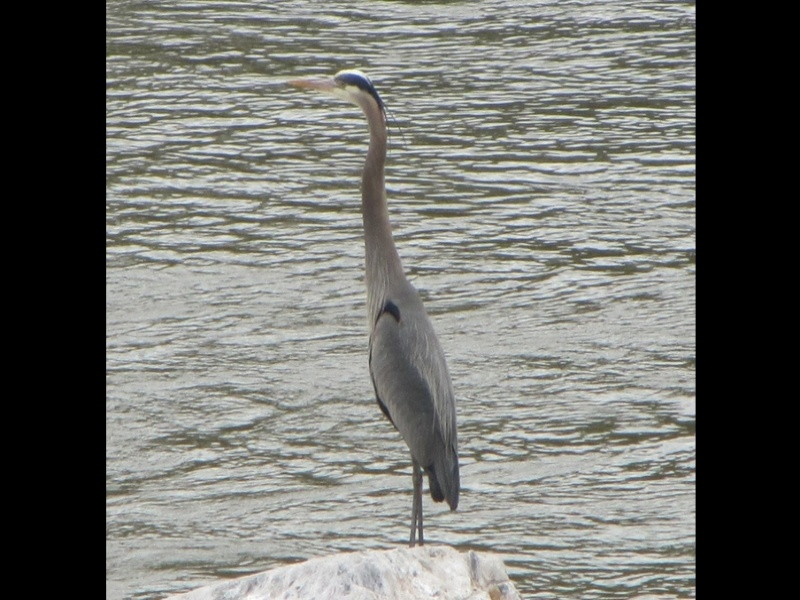heron: (273, 66, 467, 547)
